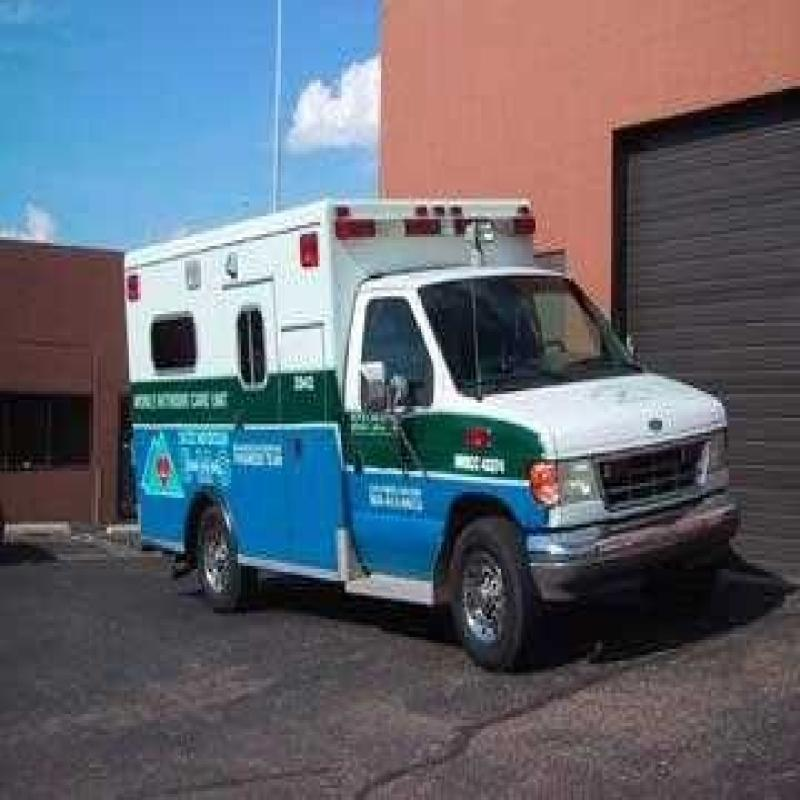AmbulanceSiren: (335, 201, 540, 260)
